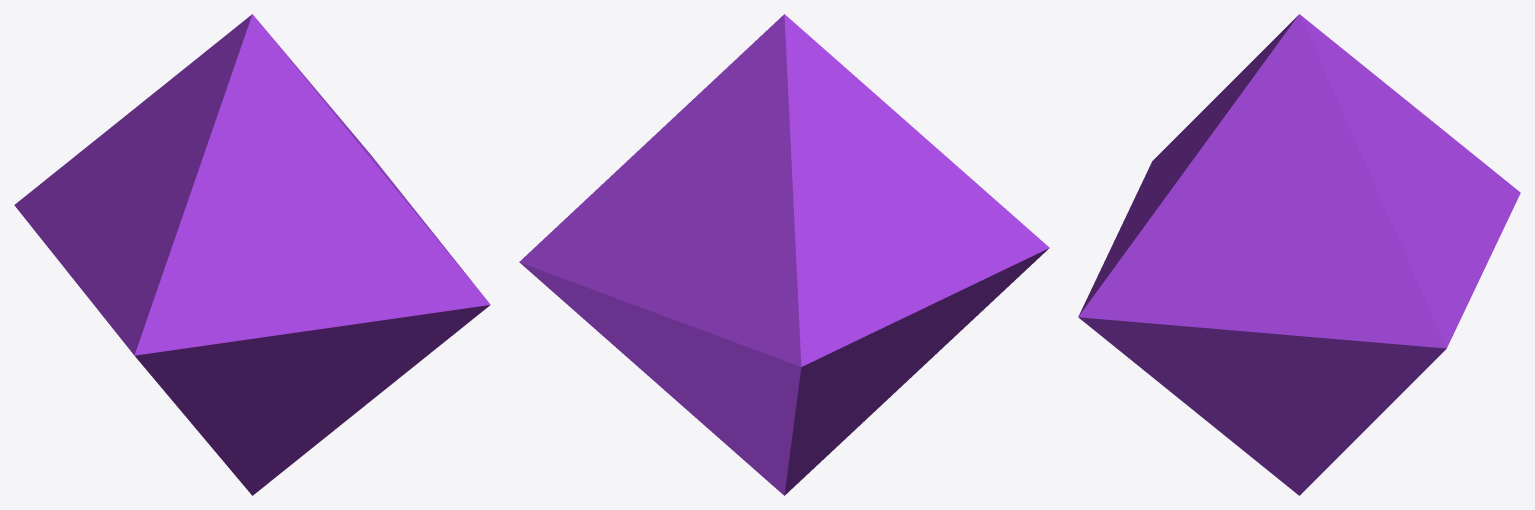
The model's file is Crystal.001.fbx.
3 renders of one model, left to right at view 1: azimuth 30°, elevation 25°; view 2: azimuth 150°, elevation 25°; view 3: azimuth 270°, elevation 25°, orthographic.
Parts seen in each view (by area): view 1: Crystal.001; view 2: Crystal.001; view 3: Crystal.001.
Part boxes in pixels (x1,y1,x2,y2): Crystal.001: (14,14,490,495); Crystal.001: (519,14,1049,495); Crystal.001: (1078,14,1520,495).
Size of the model in its own units: 852 by 1024 by 852.
